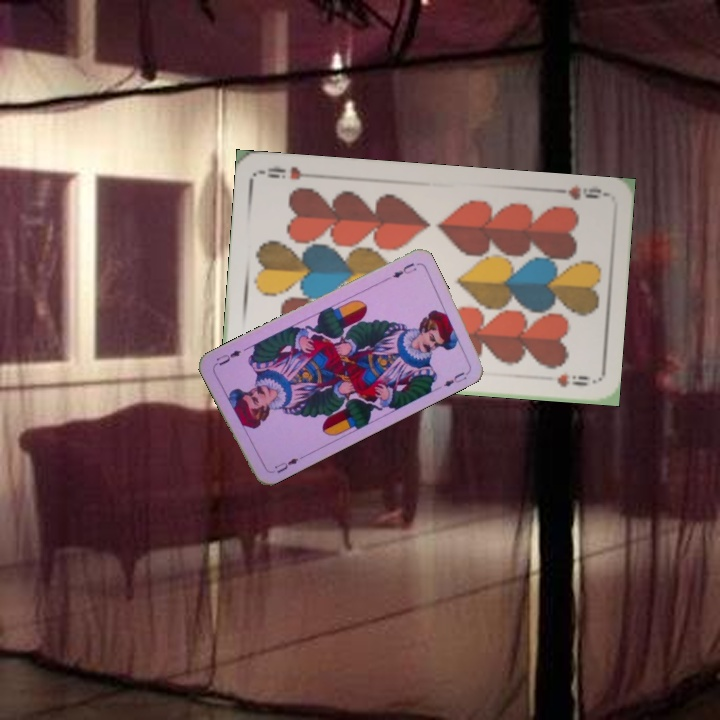EU: (381, 258, 419, 283), (267, 452, 304, 476)
H9: (549, 181, 608, 202)
